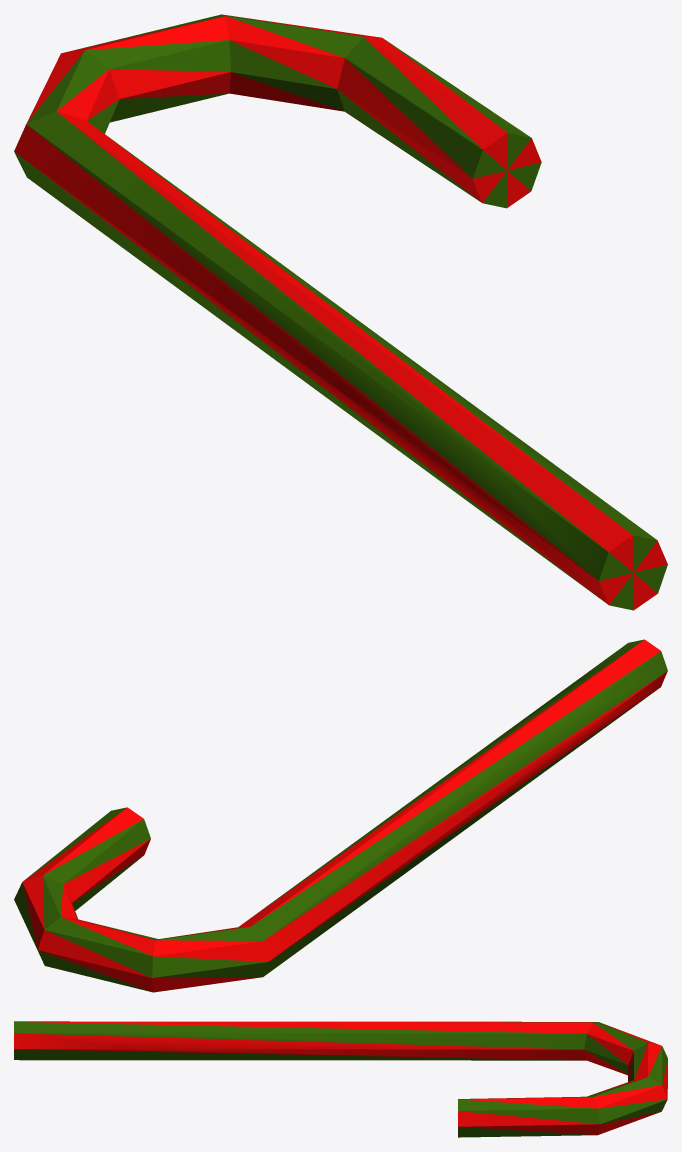
The model's file is Prop_Christmas_Candy_Cane_02.FBX.
3 renders of one model, top to bottom at view 1: azimuth 30°, elevation 25°; view 2: azimuth 150°, elevation 25°; view 3: azimuth 270°, elevation 25°, orthographic. The views are drawn at different scales.
Parts seen in each view (by area): view 1: Prop_Christmas_Candy_Cane_02; view 2: Prop_Christmas_Candy_Cane_02; view 3: Prop_Christmas_Candy_Cane_02.
Part boxes in pixels (bbox=[...]): Prop_Christmas_Candy_Cane_02: bbox=[14, 14, 667, 610]; Prop_Christmas_Candy_Cane_02: bbox=[14, 639, 667, 992]; Prop_Christmas_Candy_Cane_02: bbox=[14, 1021, 667, 1137].
Size of the model in its own units: 115 by 21.37 by 336.
